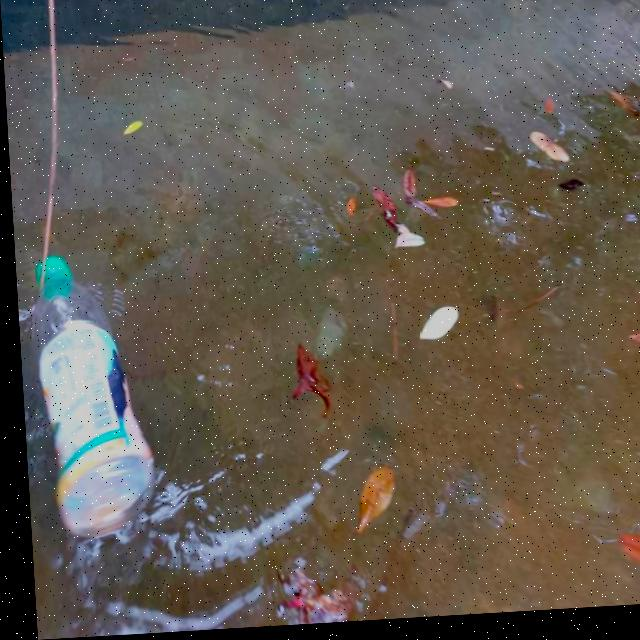waterbottle: (12, 245, 153, 541)
